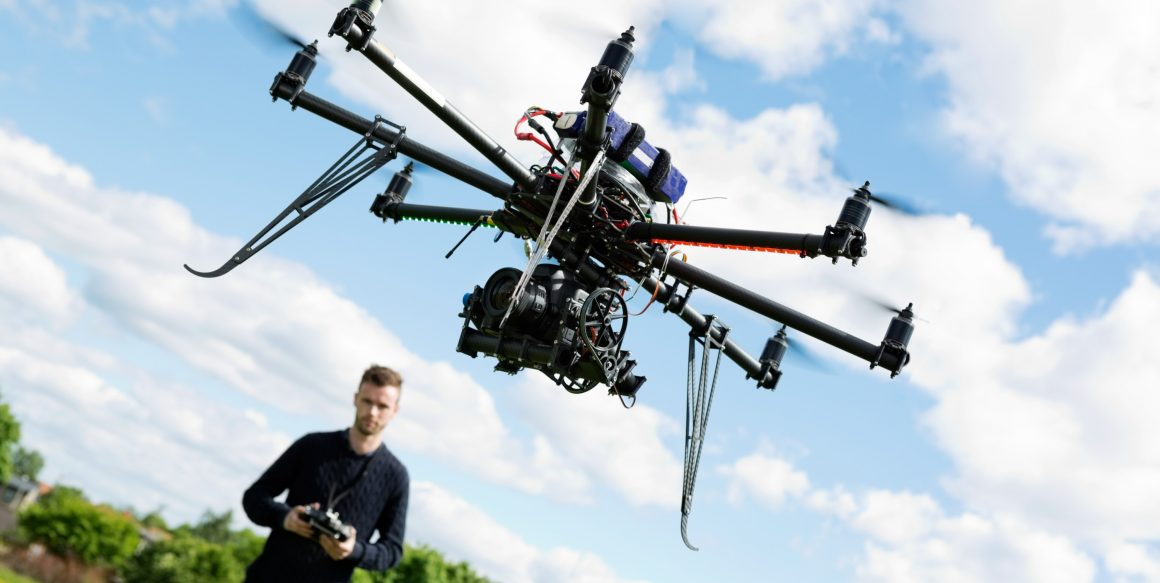drone: (184, 1, 937, 550)
person: (241, 351, 413, 583)
